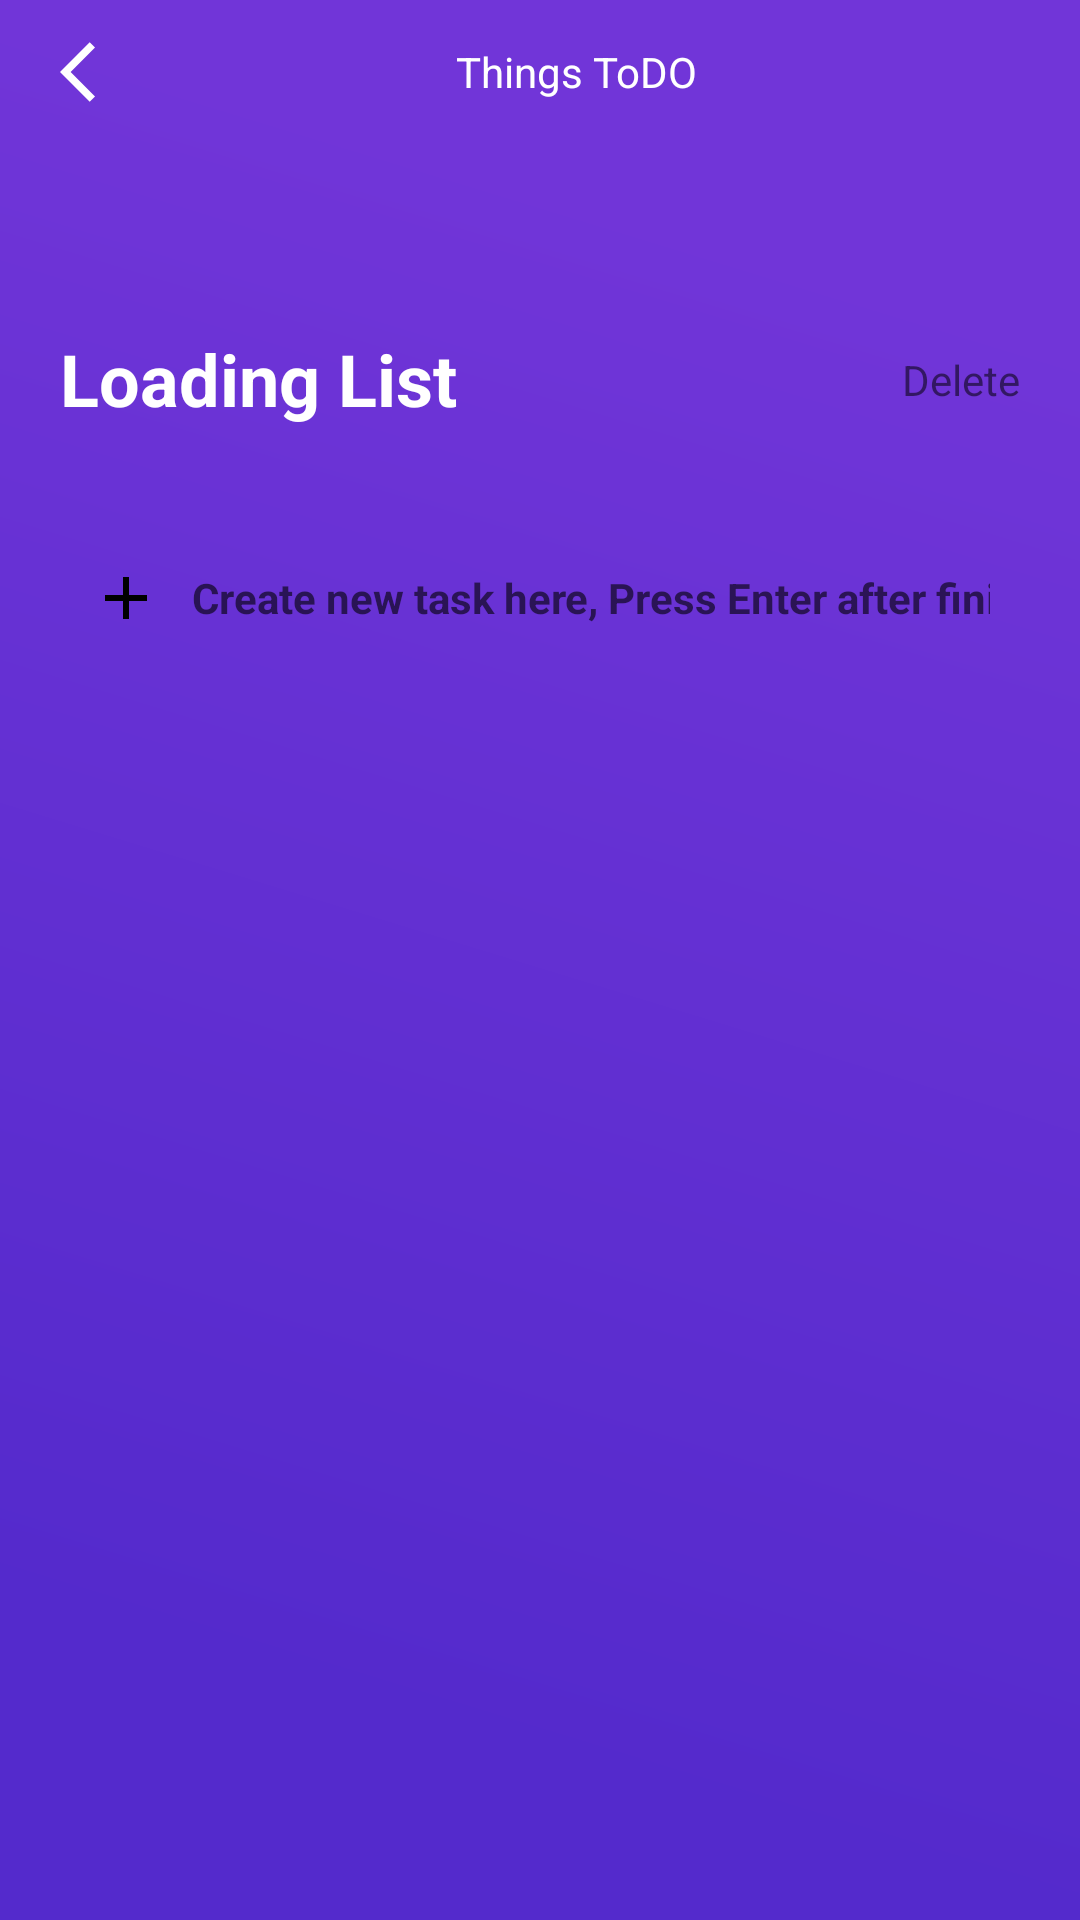

Icon click points for this 1080 × 1920 phone screenshot, format [x,y]:
arrow back: [77,72]
